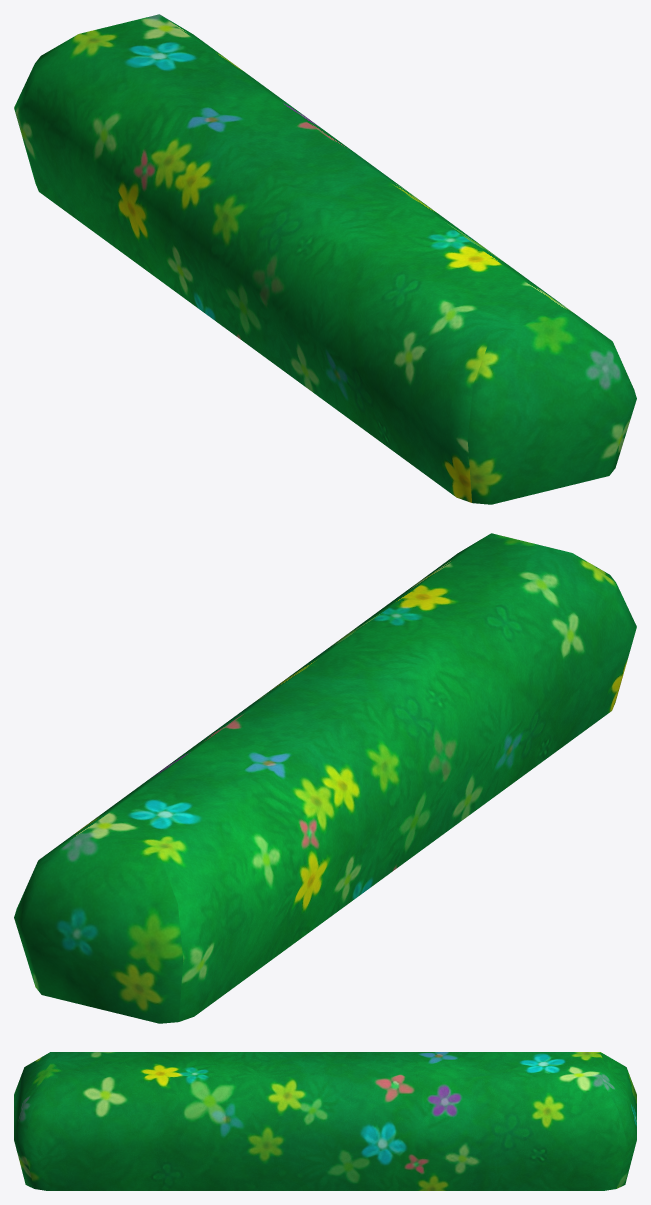
The model's file is Plant02_a04.FBX.
3 renders of one model, top to bottom at view 1: azimuth 30°, elevation 25°; view 2: azimuth 150°, elevation 25°; view 3: azimuth 270°, elevation 25°, orthographic. The views are drawn at different scales.
Parts seen in each view (by area): view 1: Plant02_a04; view 2: Plant02_a04; view 3: Plant02_a04.
Boxes of the visible parts, <box> form: Plant02_a04: <box>14,14,636,504</box>; Plant02_a04: <box>14,533,636,1023</box>; Plant02_a04: <box>14,1052,636,1190</box>.
Size of the model in its own units: 138 by 108 by 607.
Materials: 1 (1 with a texture image).
